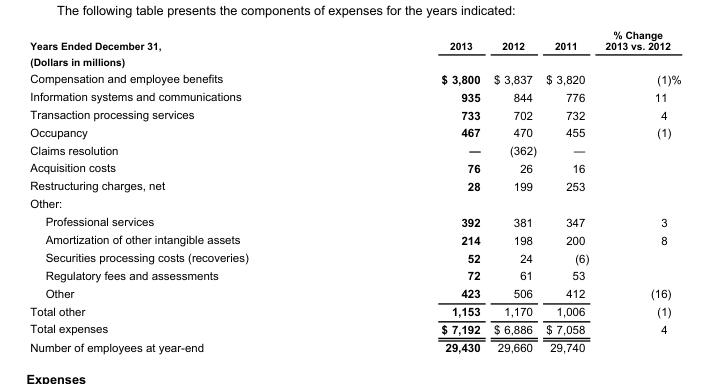table: (29, 29, 680, 353)
table column: (29, 29, 344, 353), (344, 29, 486, 353), (596, 29, 680, 353), (540, 29, 596, 353), (486, 29, 540, 353)
table column header: (29, 29, 680, 52)
table projected row header: (29, 194, 680, 212), (29, 52, 680, 69)
table row: (29, 29, 680, 52), (29, 319, 680, 338), (29, 69, 680, 87), (29, 87, 680, 105), (29, 105, 680, 123), (29, 123, 680, 141), (29, 158, 680, 176), (29, 176, 680, 194), (29, 194, 680, 212), (29, 212, 680, 230), (29, 230, 680, 248), (29, 248, 680, 266), (29, 266, 680, 284), (29, 301, 680, 319), (29, 52, 680, 69), (29, 141, 680, 158), (29, 284, 680, 301), (29, 338, 680, 353)
